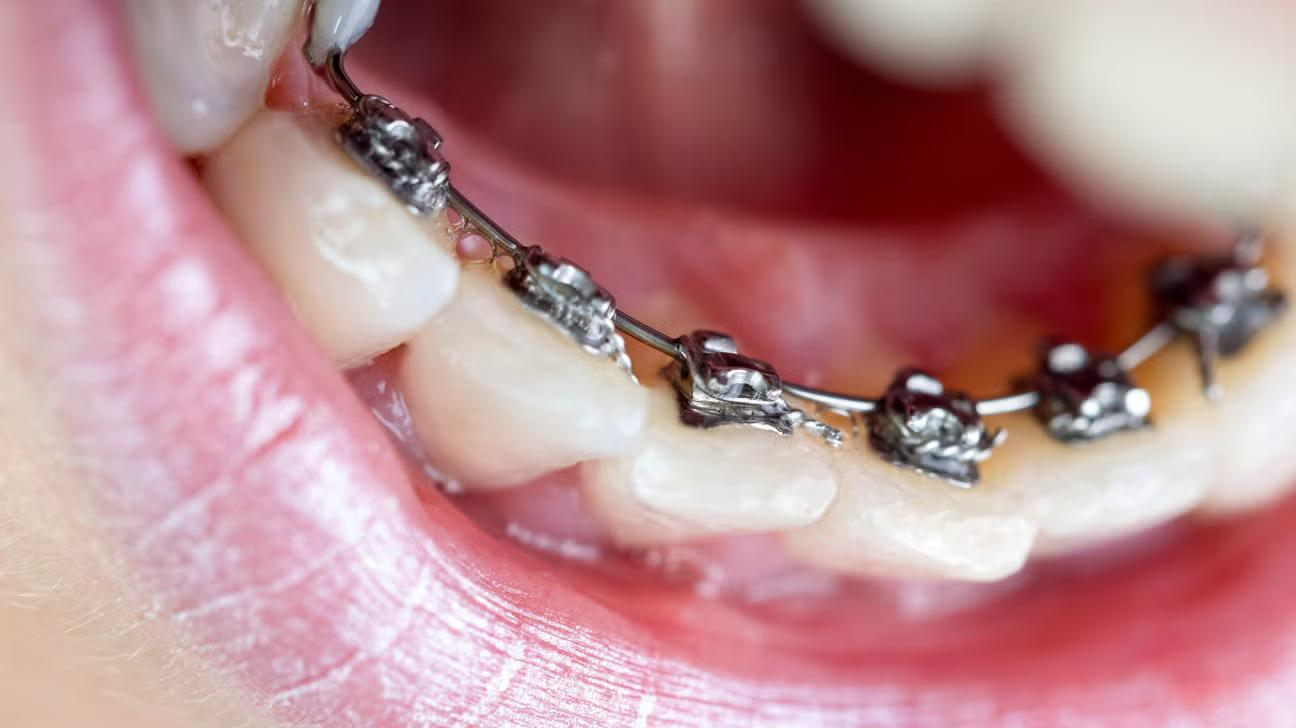Braces: (304, 2, 1290, 466)
